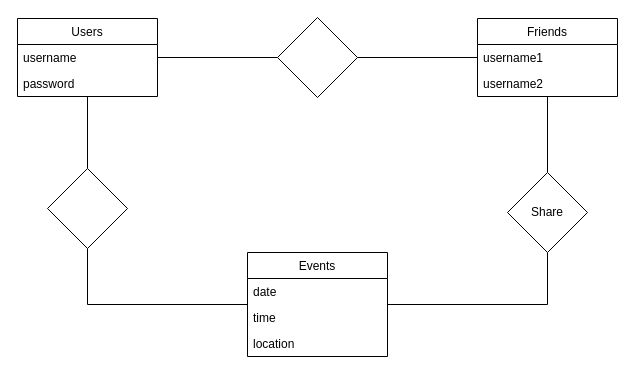
The diagram is 635 pixels wide and 377 high, and some of its shapes have lost their labels. Here are the shapes that lost their labels. From the top down, the centre of each, then its label:
the point at 317,57: Have
the point at 87,208: Create
